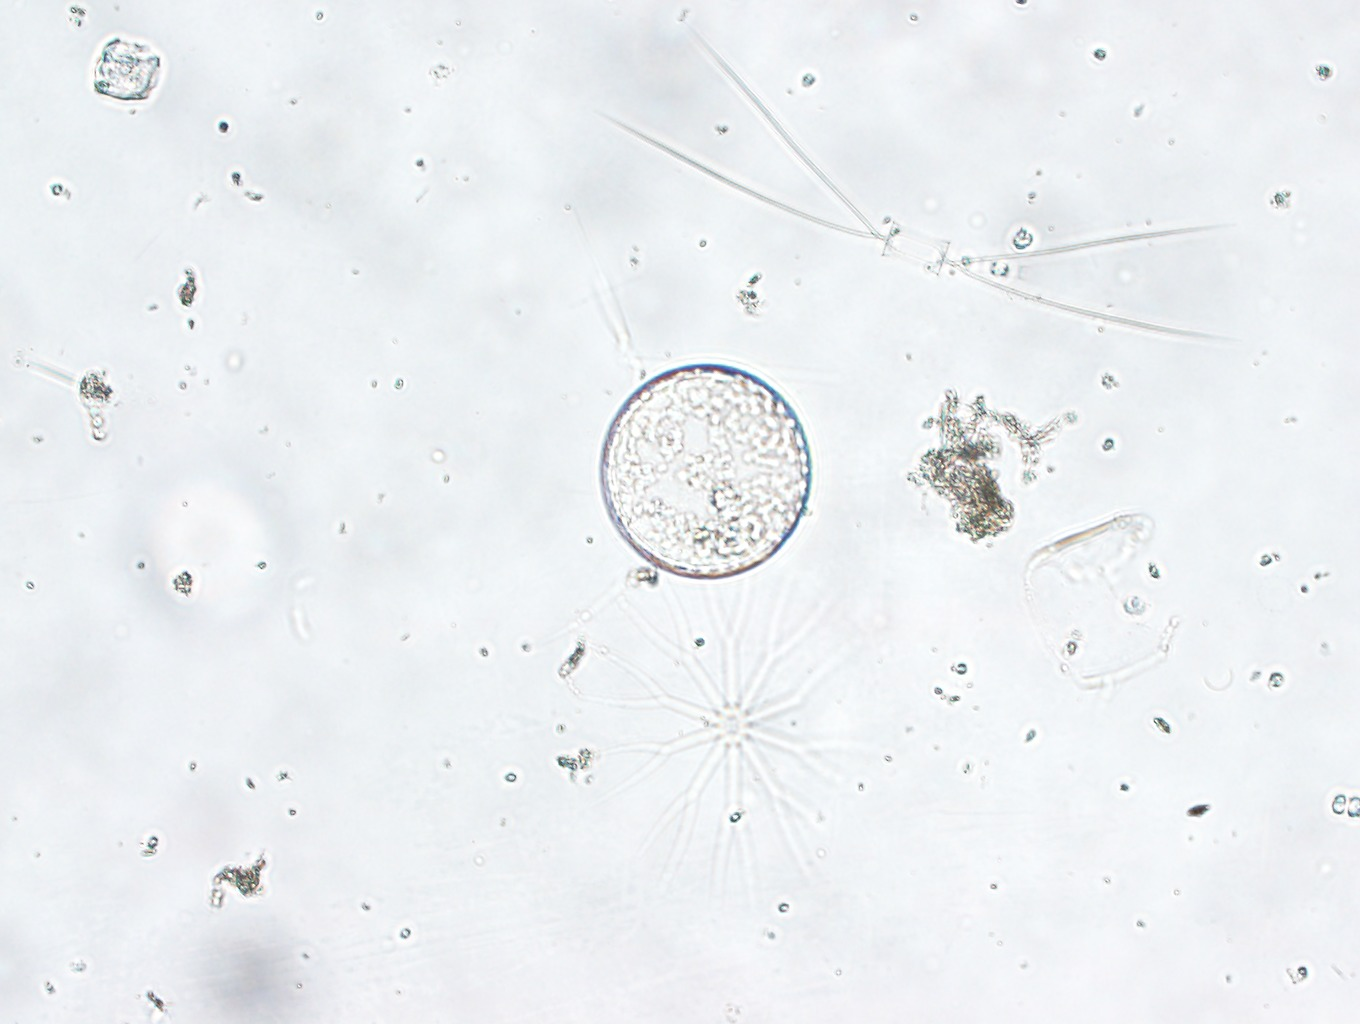bacteriastrum: (550, 568, 890, 907)
chaetoceros: (595, 14, 1242, 365)
coscinodiscus: (593, 359, 815, 581)
